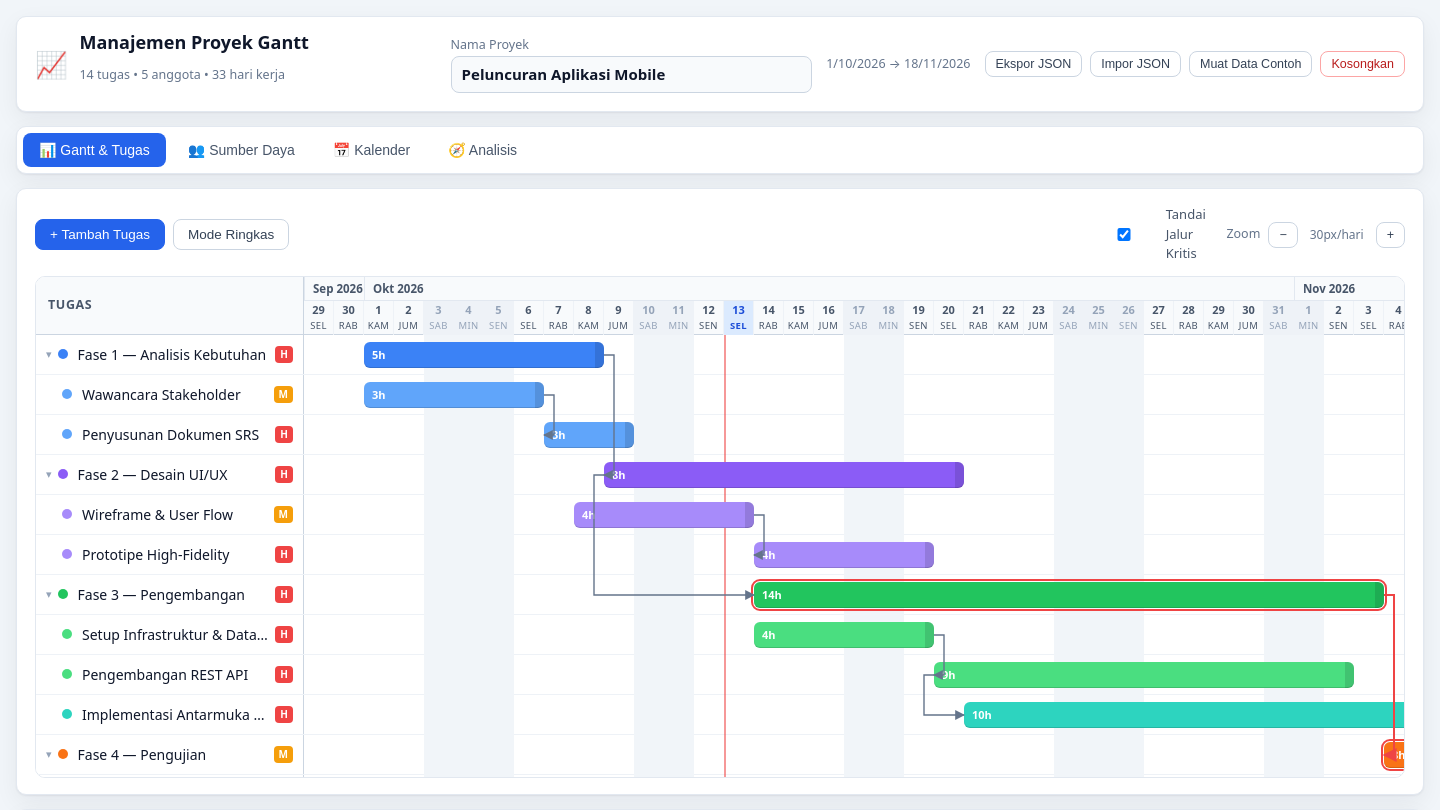
Test: App — smoke test antarmuka › berpindah antar tab dan menampilkan analisis jalur kritis
Click the tab "🧭 Analisis" at (483, 150), box [432,133,533,167]
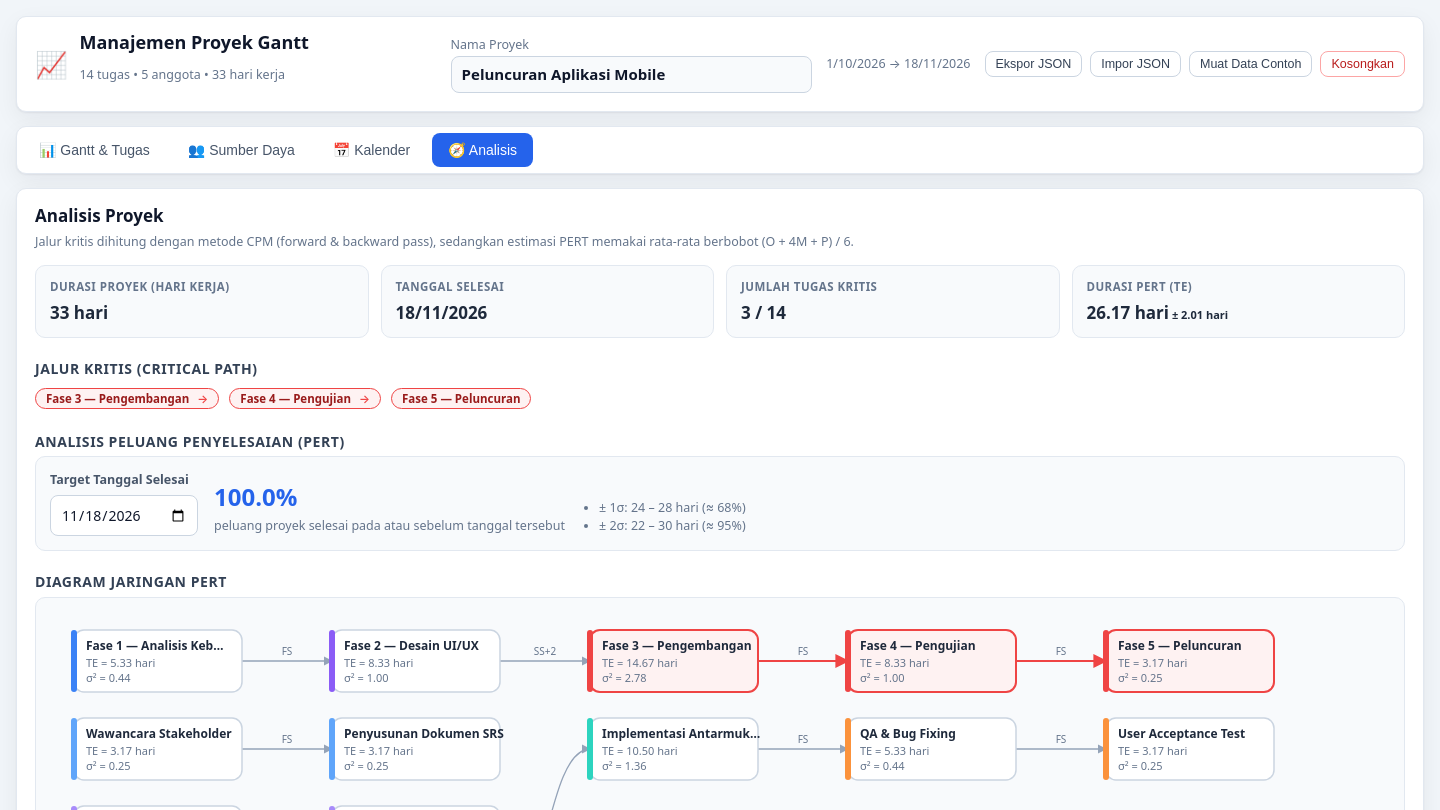
Expected: the heading "Jalur Kritis (Critical Path)" is shown, [35,359,258,378]
Expected: the heading "Diagram Jaringan PERT" is shown, [35,572,227,591]
Click the tab "📅 Kalender" at (372, 150), box [317,133,426,167]
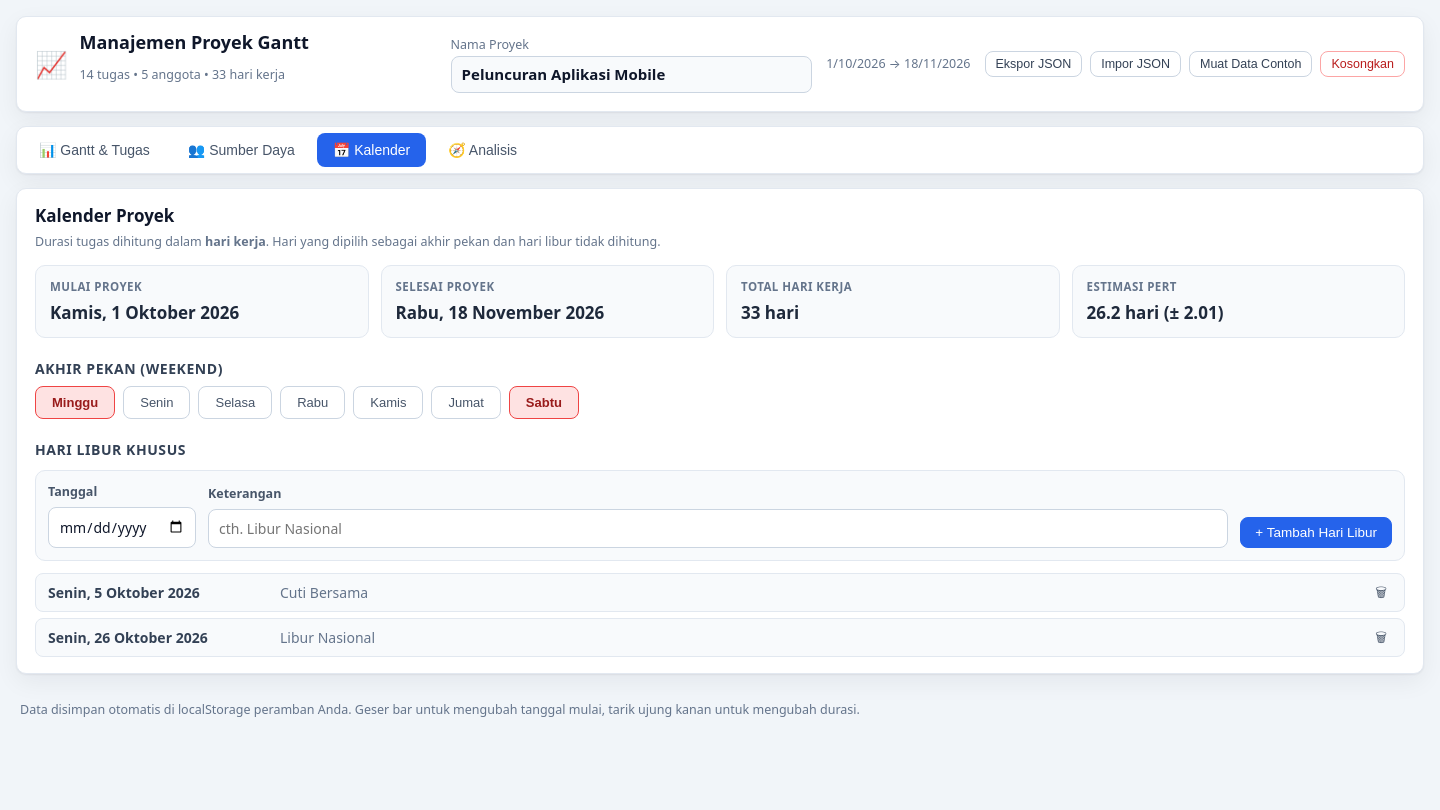
Expected: the heading "Kalender Proyek" is shown, [35,204,174,227]
Click the tab "👥 Sumber Daya" at (241, 150), box [172,133,311,167]
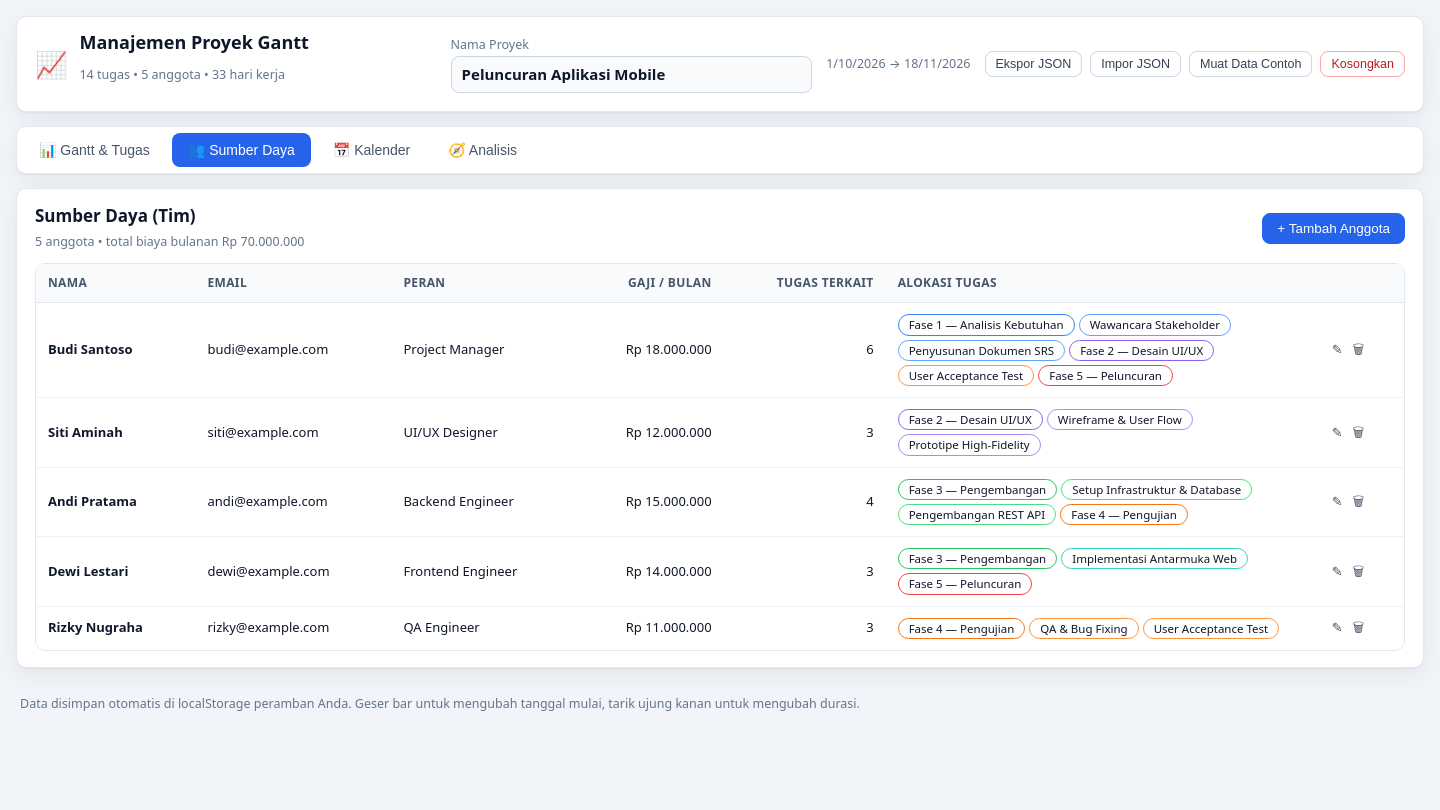
Expected: the heading "Sumber Daya (Tim)" is shown, [35,204,196,227]
